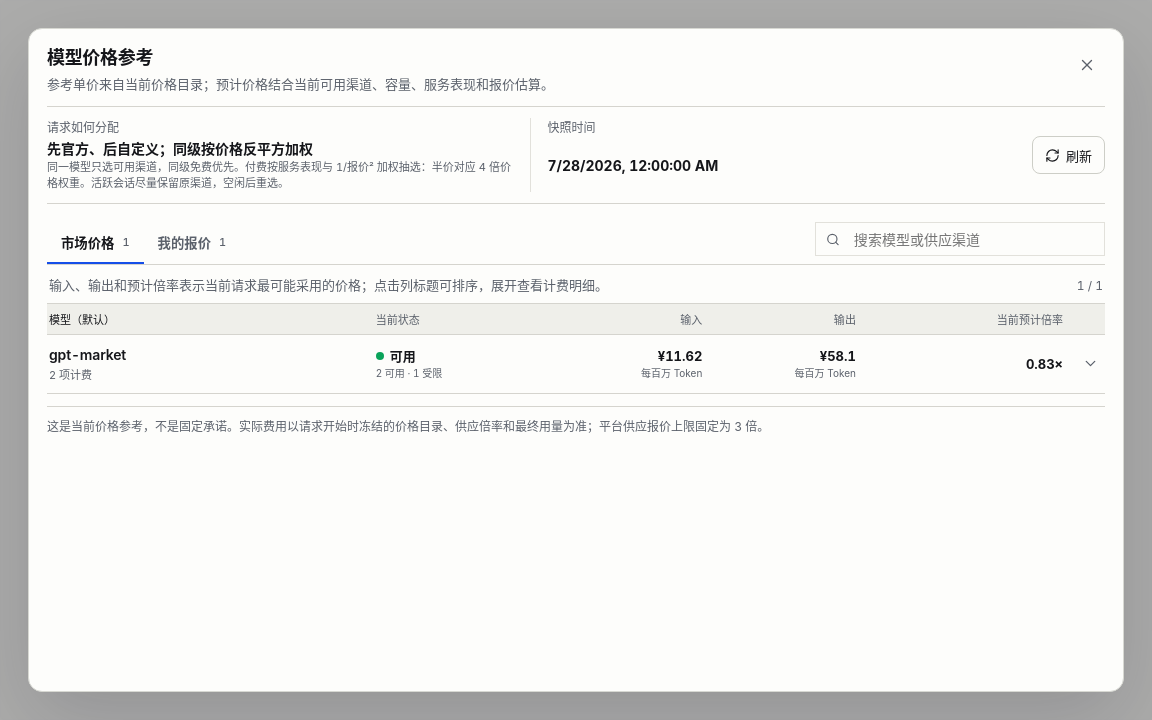
Test: MarketPricesModal › keeps cached prices and expanded rows during an unchanged background update
The image size is (1152, 720).
Check: the heading "gpt-market" is shown, box [49,346,126,363]
Click the button with class "market-expand-button": {"x": 1091, "y": 364} [1075,348,1107,380]
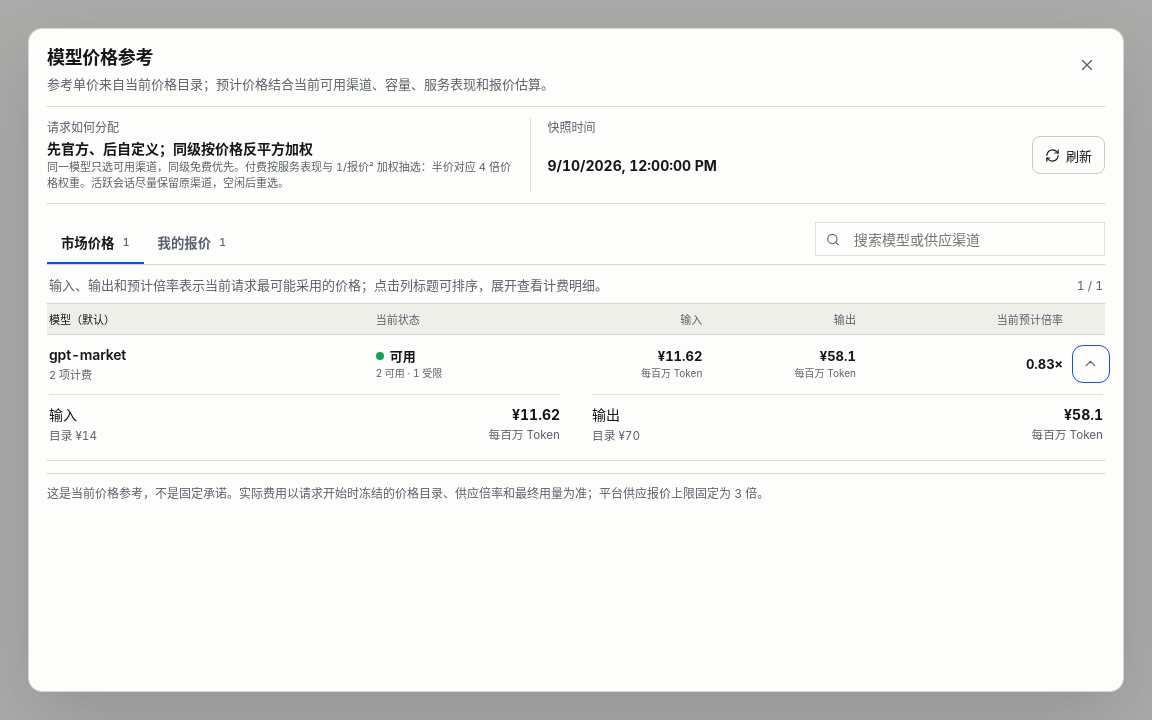
Check: the button "刷新" is enabled, box [1032,136,1105,174]
Check: the element with class "market-component-list" is shown, box [49,393,1103,452]
